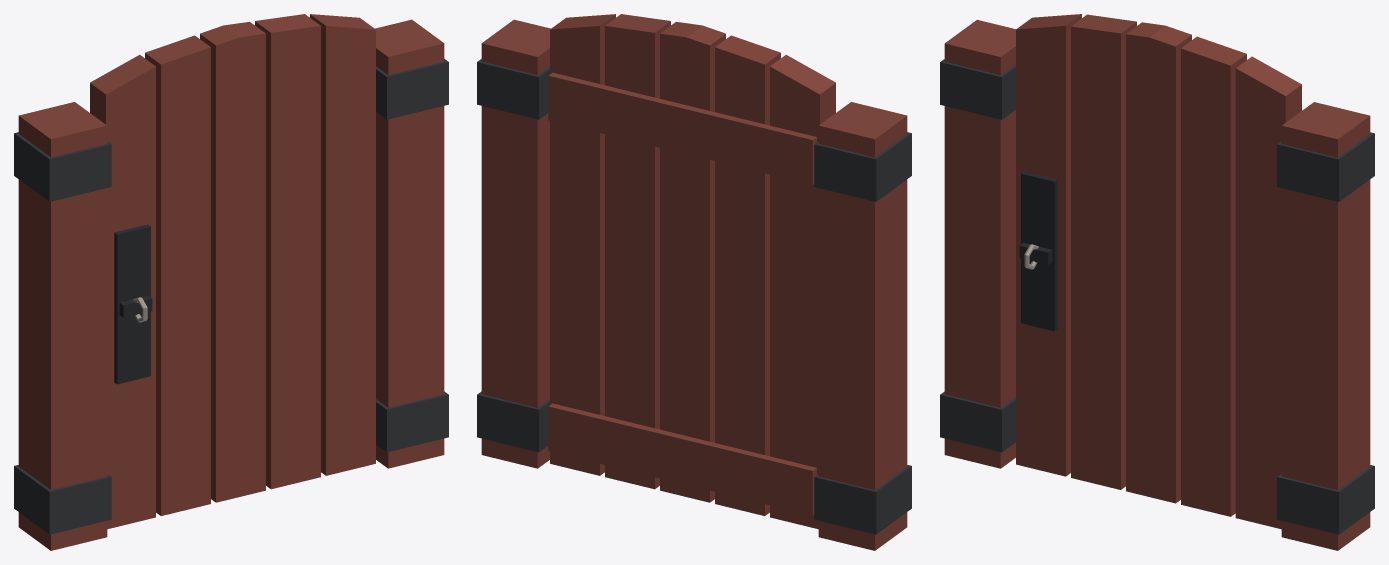
Rendered from Wicket_02_C.gltf.
3 views of the same model, side by side, from view 1: azimuth 30°, elevation 25°; view 2: azimuth 150°, elevation 25°; view 3: azimuth 330°, elevation 25° (orthographic).
Visible parts, largest first — view 1: WicketDoor_02_C, Wicket_02_C; view 2: WicketDoor_02_C, Wicket_02_C; view 3: WicketDoor_02_C, Wicket_02_C.
Boxes of the visible parts, x1,y1,x2,y2 form: WicketDoor_02_C: (90, 14, 375, 529); Wicket_02_C: (14, 19, 448, 550); WicketDoor_02_C: (548, 14, 835, 529); Wicket_02_C: (477, 19, 911, 550); WicketDoor_02_C: (1016, 14, 1301, 529); Wicket_02_C: (940, 19, 1374, 550).
Bounding box in the file's own units: 0.7103 × 0.7817 × 0.1269.
